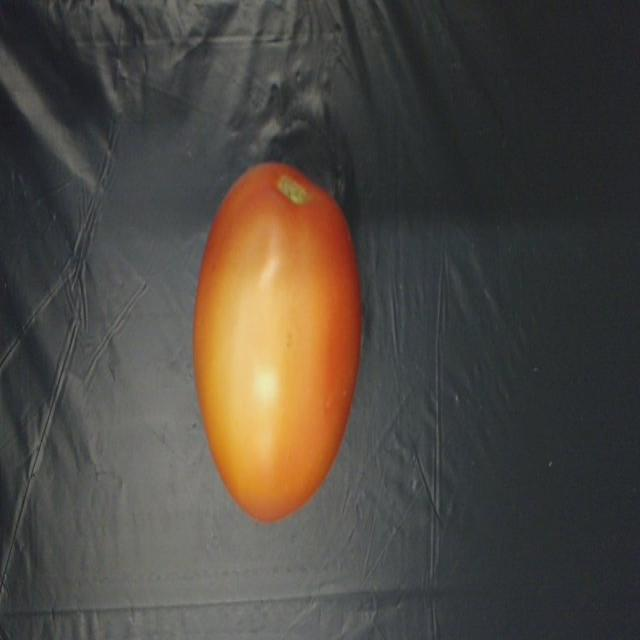sari: (189, 154, 367, 520)
